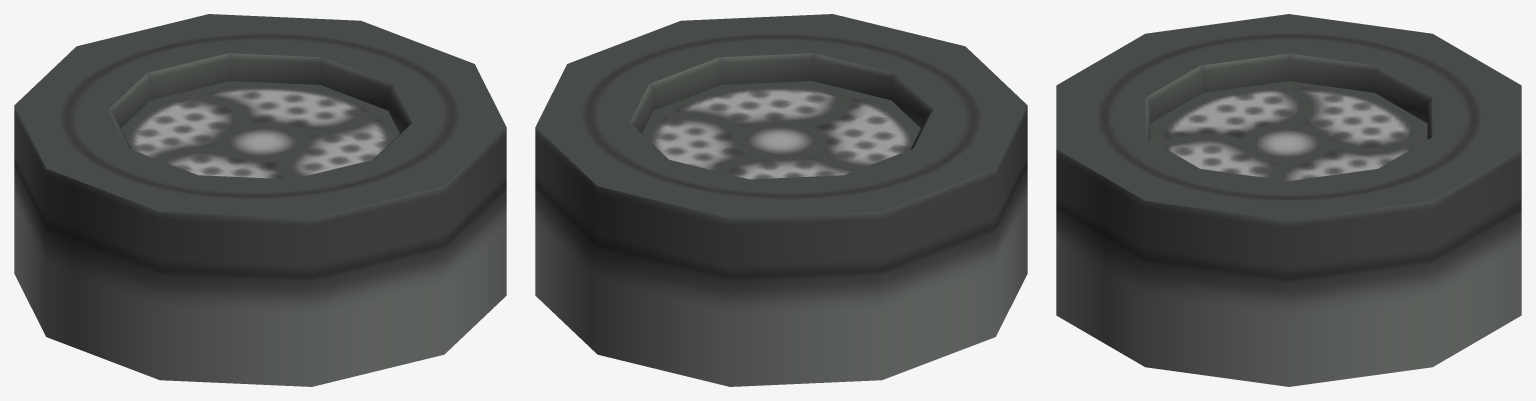
Rendered from GasmaskFilter.fbx.
The picture shows the model from 3 angles, left to right: view 1: azimuth 30°, elevation 25°; view 2: azimuth 150°, elevation 25°; view 3: azimuth 270°, elevation 25°; orthographic projection.
Parts seen in each view (by area): view 1: GasmaskFilter; view 2: GasmaskFilter; view 3: GasmaskFilter.
Boxes of the visible parts, bbox=[...] form: GasmaskFilter: bbox=[14, 14, 506, 386]; GasmaskFilter: bbox=[535, 14, 1027, 386]; GasmaskFilter: bbox=[1056, 14, 1521, 386].
Bounding box in the file's own units: 0.1597 × 0.0599 × 0.1519.
